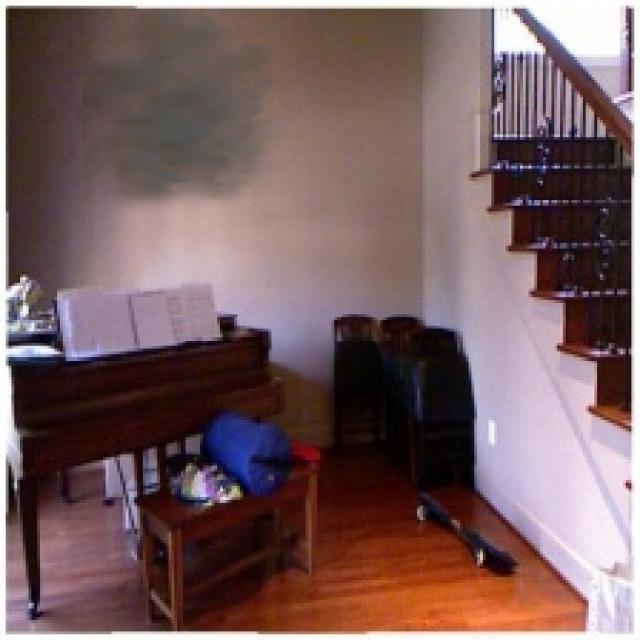Smoke: (83, 9, 303, 218)
